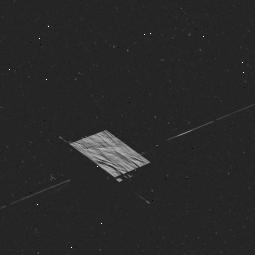smart_1: (37, 131, 211, 208)
